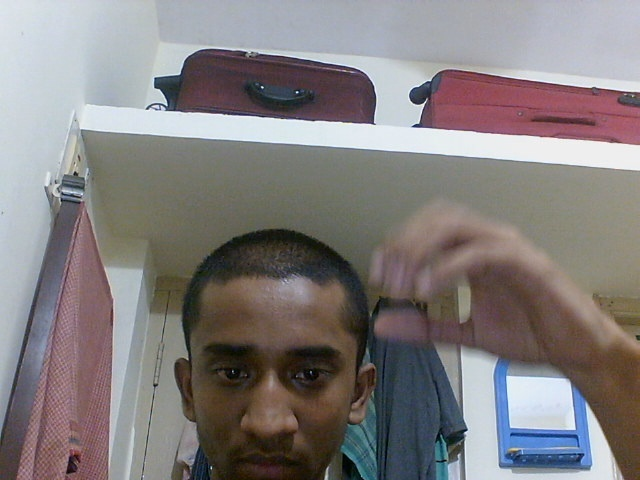hand: (363, 198, 617, 397)
